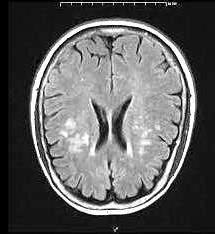Normal_Brain: (11, 2, 215, 234)
